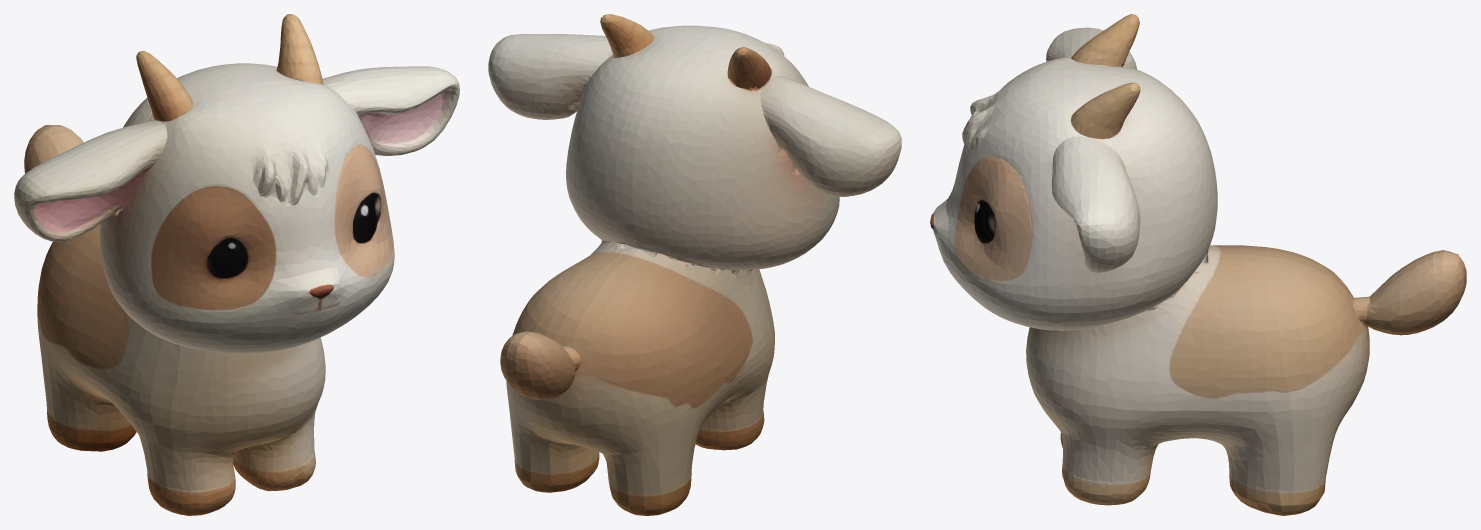
Rendered from goat.glb.
The picture shows the model from 3 angles, left to right: view 1: azimuth 30°, elevation 25°; view 2: azimuth 150°, elevation 25°; view 3: azimuth 270°, elevation 25°; orthographic projection. The views are drawn at different scales.
Parts seen in each view (by area): view 1: geometry_0; view 2: geometry_0; view 3: geometry_0.
Boxes of the visible parts, <box> form: geometry_0: <box>14,14,459,515</box>; geometry_0: <box>488,14,901,515</box>; geometry_0: <box>930,14,1466,515</box>.
Size of the model in its own units: 0.8987 by 0.8878 by 0.9986.
1 material, 1 textured.
